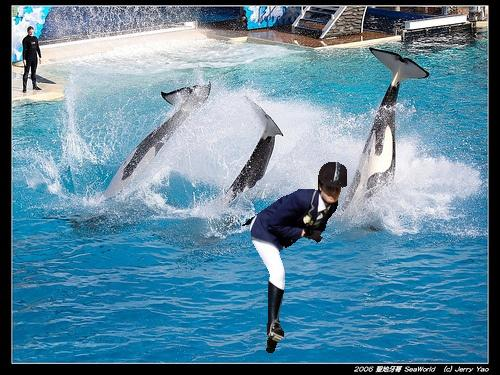tampered: (243, 163, 347, 354)
